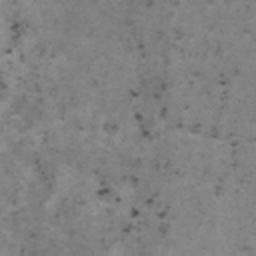Oxide scale of temperature system: (93, 28, 230, 251), (7, 94, 84, 227), (10, 19, 46, 58), (214, 185, 224, 196), (241, 245, 253, 253)
